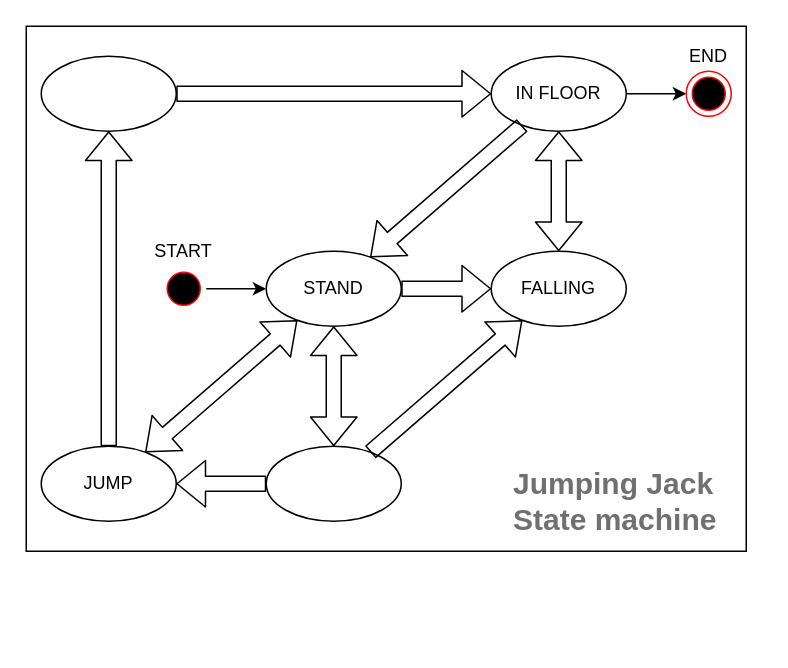
Image size: 788x668. Some labels were removed from this diagram. The centre of each missing label's shape, as x and y in pixels:
CRASH: pixel 108 93
WALK: pixel 333 483
